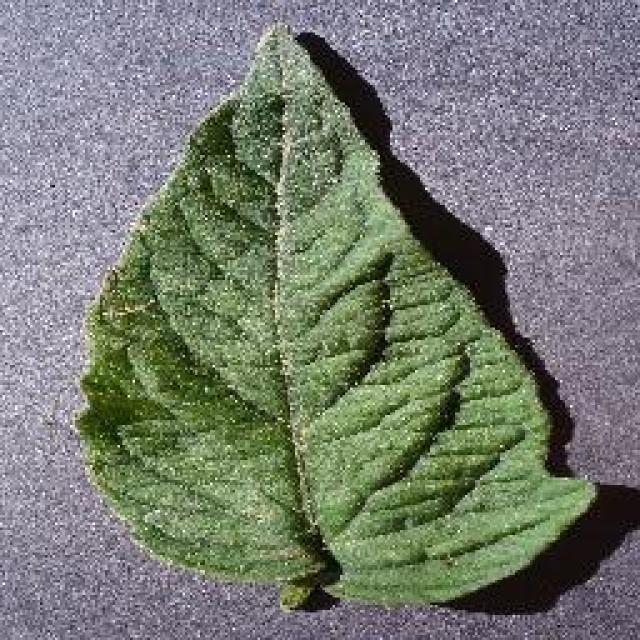Tomato_Healthy: (67, 27, 617, 602)
